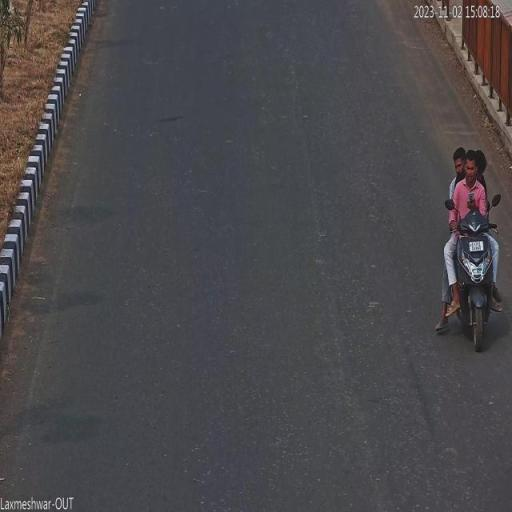tripple riding: (442, 140, 504, 232)
